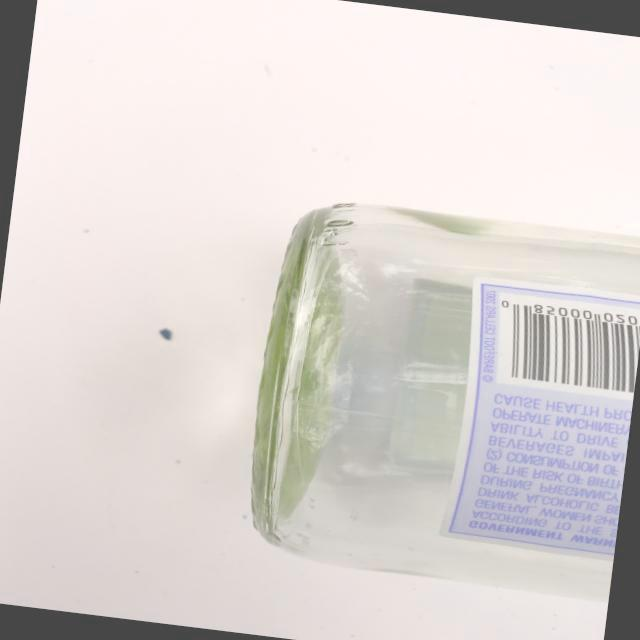glass: (222, 177, 640, 608)
